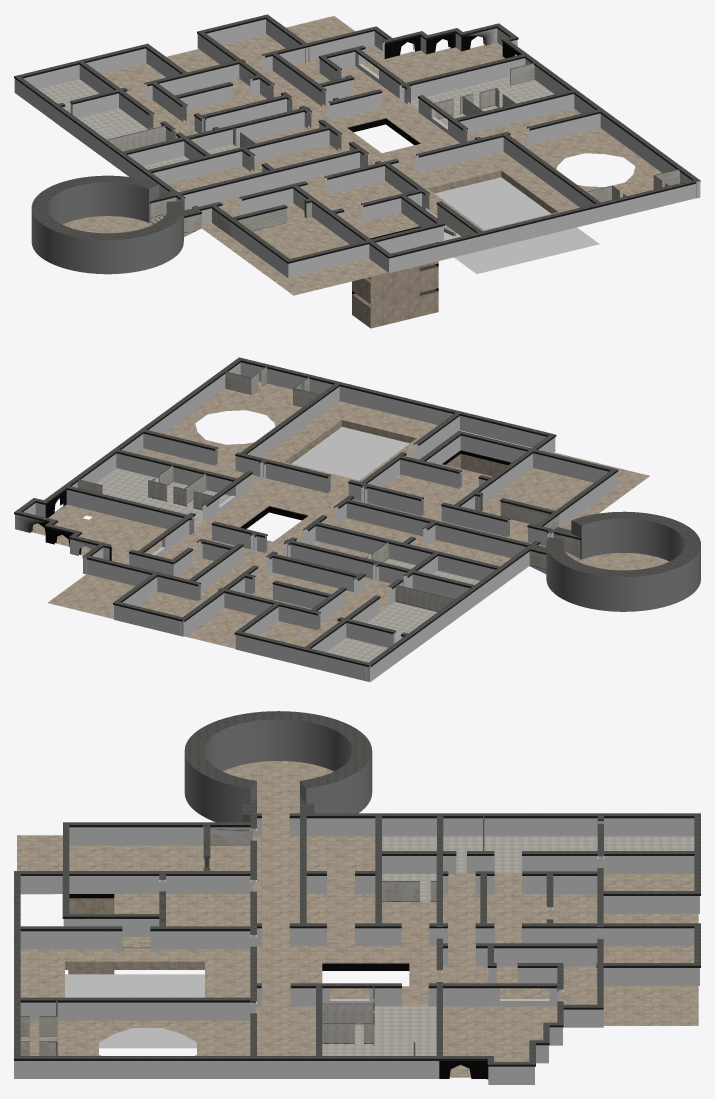
The model's file is walls_all.fbx.
3 views of the same model, one above another, from view 1: azimuth 30°, elevation 25°; view 2: azimuth 150°, elevation 25°; view 3: azimuth 270°, elevation 25° (orthographic). The views are drawn at different scales.
Visible parts, largest first — view 1: wall3, floor, wall1, wall003, florr_garden, floor_poll, floor_capsule, floor_canteene, floor_reactor, Object075; view 2: wall3, wall1, floor, wall003, florr_garden, floor_poll, floor_capsule, floor_canteene, floor_reactor, Object075; view 3: floor, wall3, wall1, wall003, florr_garden, floor_capsule, floor_poll, floor_canteene, floor_reactor, Object075.
Part boxes in pixels (left/top/right/bottom): wall3: left=14, top=43, right=361, bottom=274; floor: left=101, top=16, right=580, bottom=328; wall1: left=144, top=14, right=700, bottom=198; wall003: left=211, top=132, right=696, bottom=278; florr_garden: left=405, top=151, right=599, bottom=273; floor_poll: left=524, top=128, right=662, bottom=197; floor_capsule: left=363, top=42, right=505, bottom=82; floor_canteene: left=38, top=79, right=147, bottom=139; floor_reactor: left=63, top=216, right=153, bottom=233; Object075: left=587, top=169, right=679, bottom=202; wall3: left=234, top=499, right=700, bottom=682; wall1: left=14, top=357, right=423, bottom=636; floor: left=47, top=448, right=649, bottom=648; wall003: left=240, top=358, right=618, bottom=529; florr_garden: left=262, top=401, right=438, bottom=496; floor_poll: left=163, top=381, right=301, bottom=469; floor_capsule: left=32, top=504, right=167, bottom=564; floor_canteene: left=326, top=602, right=437, bottom=681; floor_reactor: left=577, top=553, right=669, bottom=570; Object075: left=225, top=366, right=319, bottom=407; floor: left=17, top=822, right=698, bottom=1055; wall3: left=184, top=711, right=700, bottom=924; wall1: left=14, top=868, right=700, bottom=1084; wall003: left=14, top=822, right=255, bottom=1056; florr_garden: left=20, top=948, right=250, bottom=1048; floor_capsule: left=443, top=1006, right=557, bottom=1079; floor_poll: left=20, top=1020, right=250, bottom=1055; floor_canteene: left=484, top=836, right=694, bottom=872; floor_reactor: left=223, top=761, right=333, bottom=822; Object075: left=20, top=1000, right=57, bottom=1055.
Size of the model in its own units: 8593 by 1487 by 7389.
